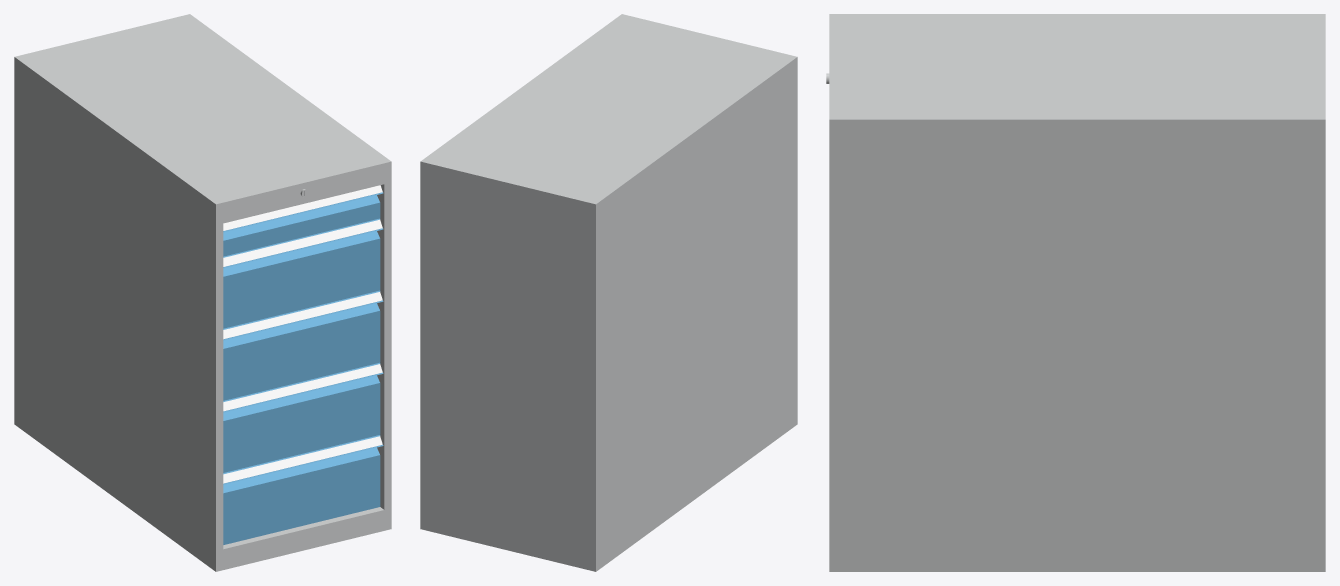
The picture shows the model from 3 angles, left to right: view 1: azimuth 30°, elevation 25°; view 2: azimuth 150°, elevation 25°; view 3: azimuth 270°, elevation 25°; orthographic projection. The views are drawn at different scales.
Parts seen in each view (by area): view 1: mesh_2; view 2: mesh_2; view 3: mesh_2.
Boxes of the visible parts, <box> form: mesh_2: <box>14,14,391,571</box>; mesh_2: <box>420,14,797,571</box>; mesh_2: <box>826,14,1325,571</box>.
Size of the model in its own units: 100 by 200 by 200.
